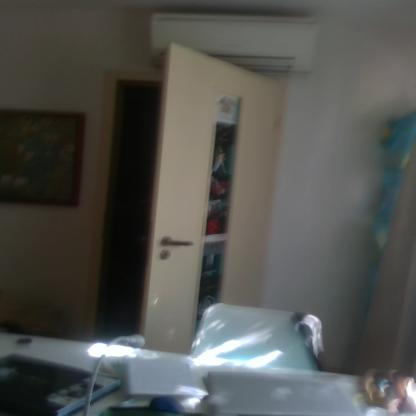semi: (76, 40, 272, 354)
